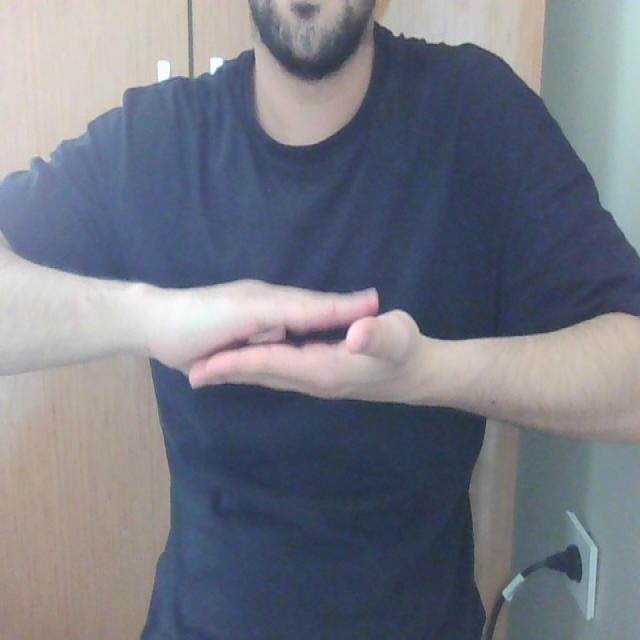Arkadas: (0, 260, 639, 420)
